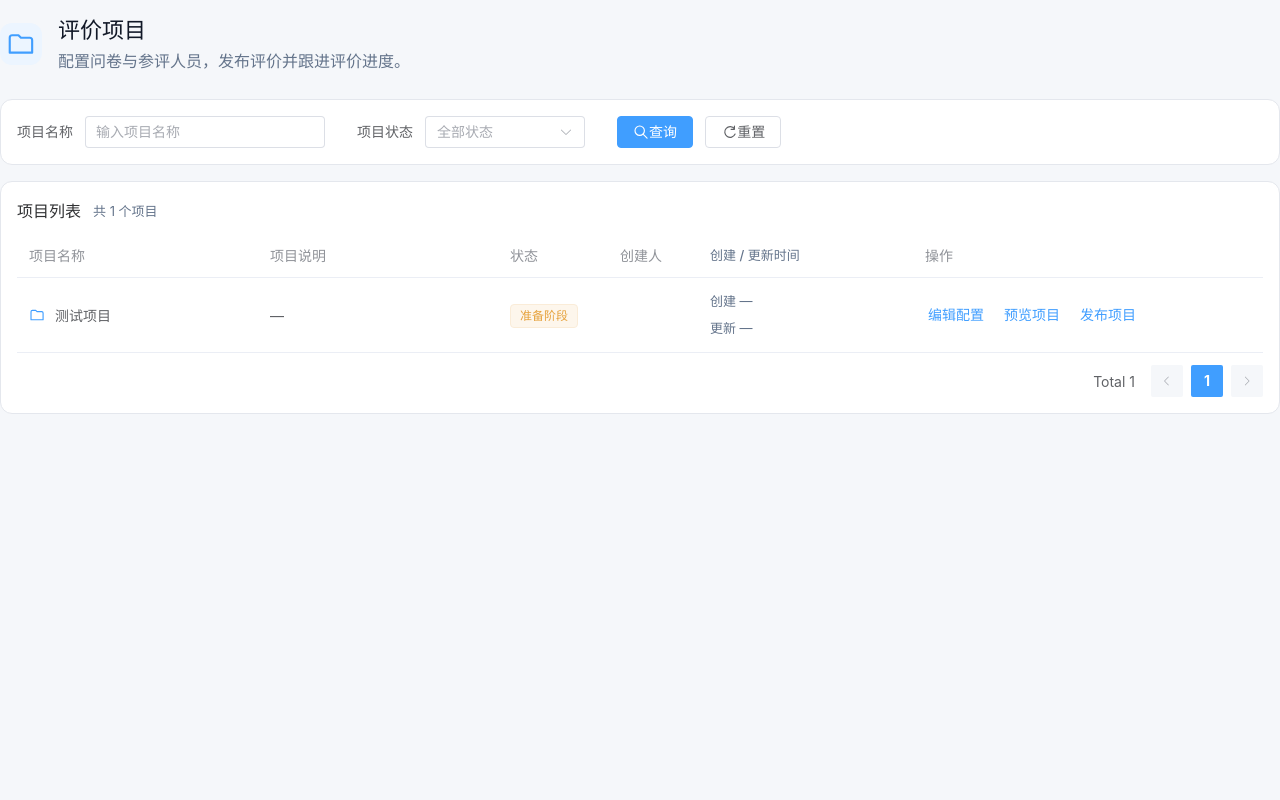
Test: 完整配置底部显示可发布状态，不出现待完善操作
Click the button "预览项目" at x=1032, y=315, box [1001,305,1063,325]
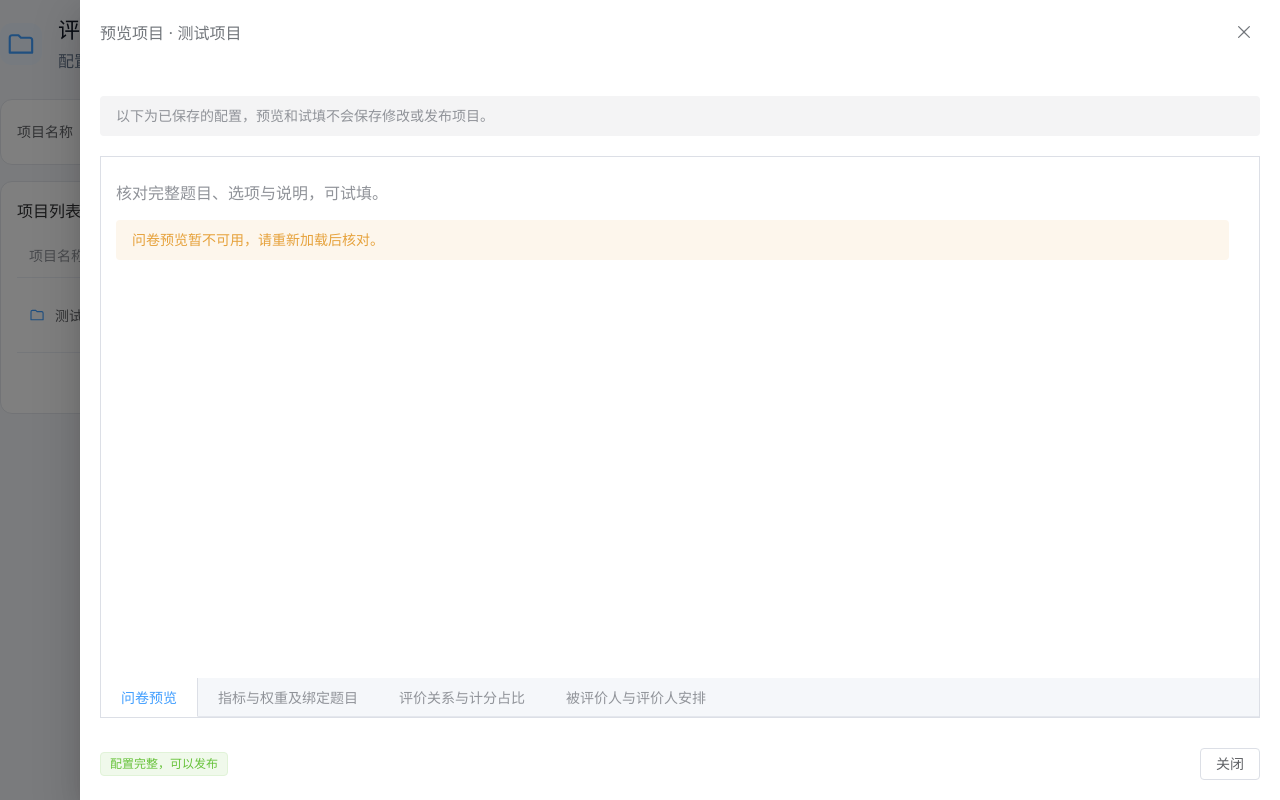
Now the element showing "配置完整，可以发布 关闭" is shown, box [100,748,1260,780]
